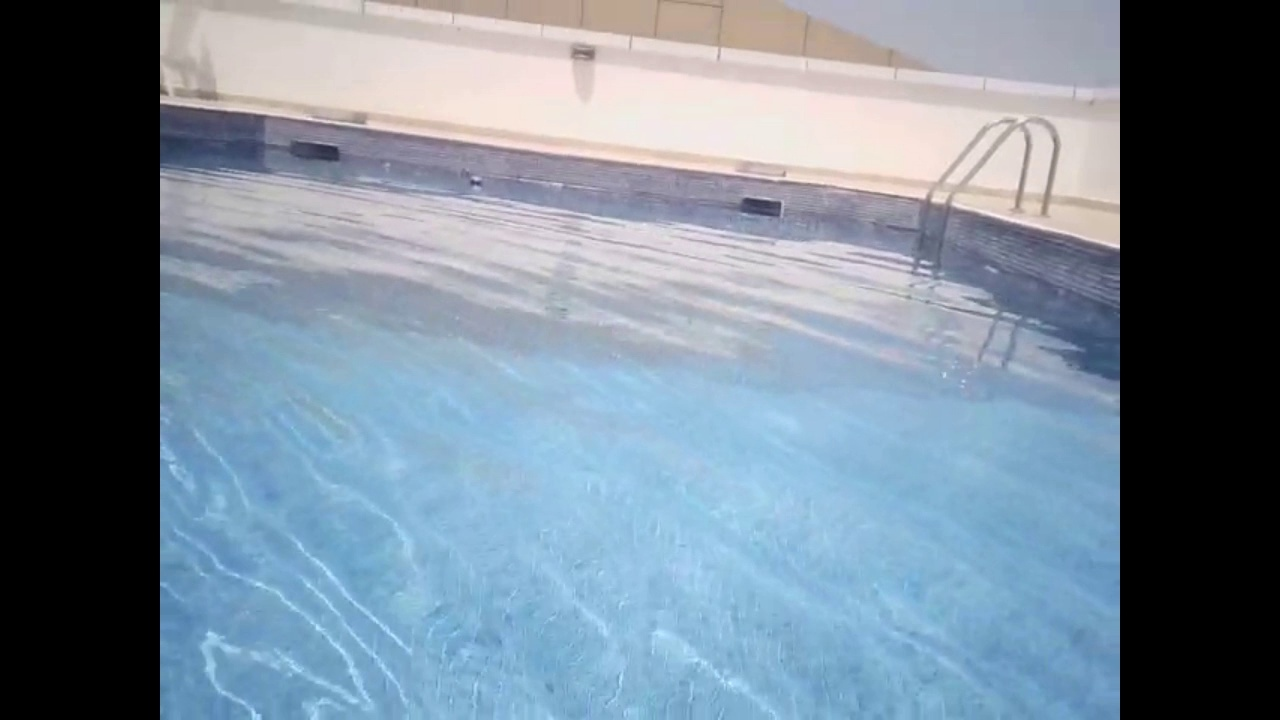debris: (463, 170, 486, 189), (458, 163, 474, 181)
